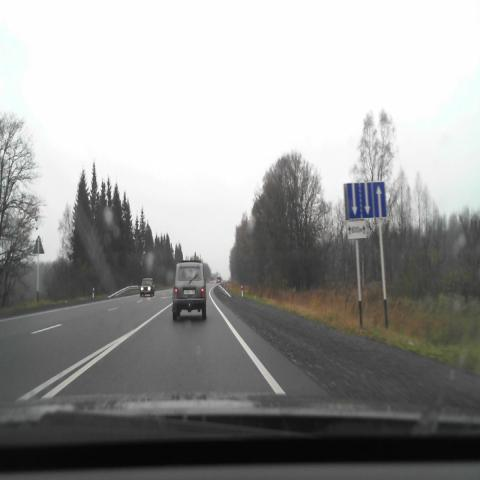8_2_1: (347, 221, 366, 239)
